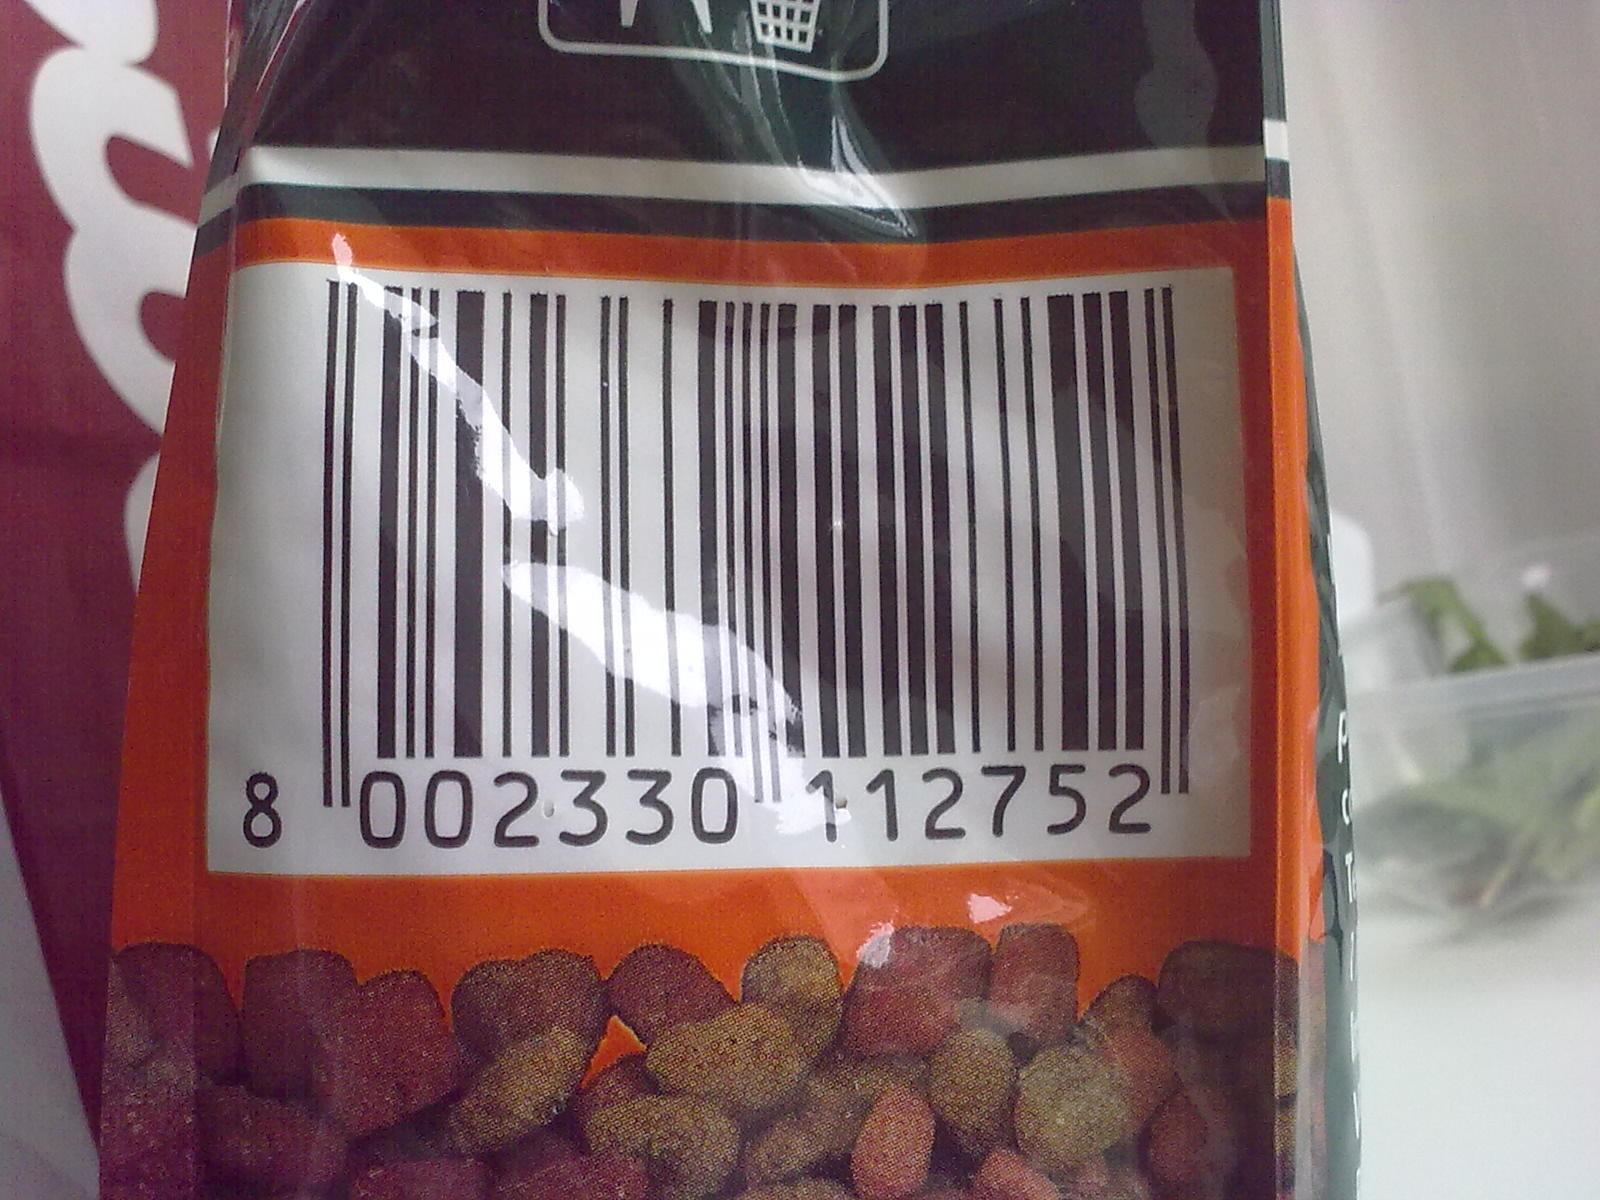barcode: (207, 262, 1247, 871)
